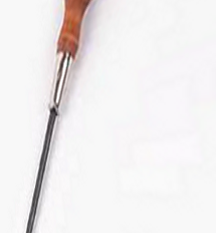Screwdriver: (18, 1, 100, 233)
